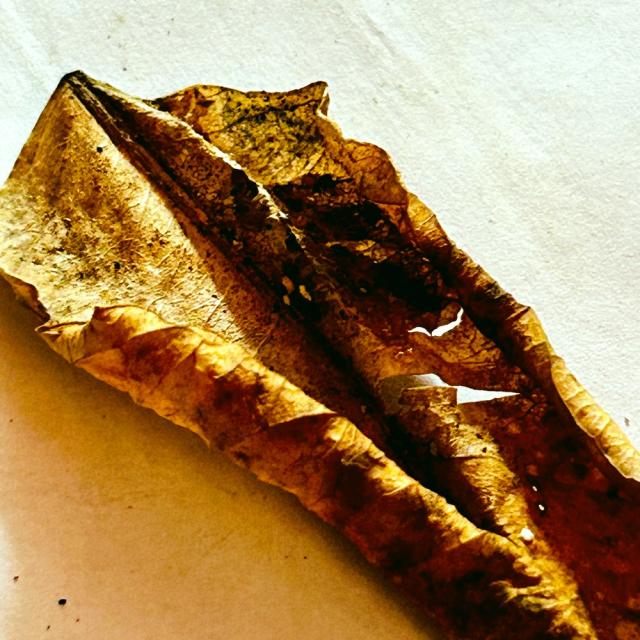DryLeaf_Lemon: (0, 71, 639, 639)
